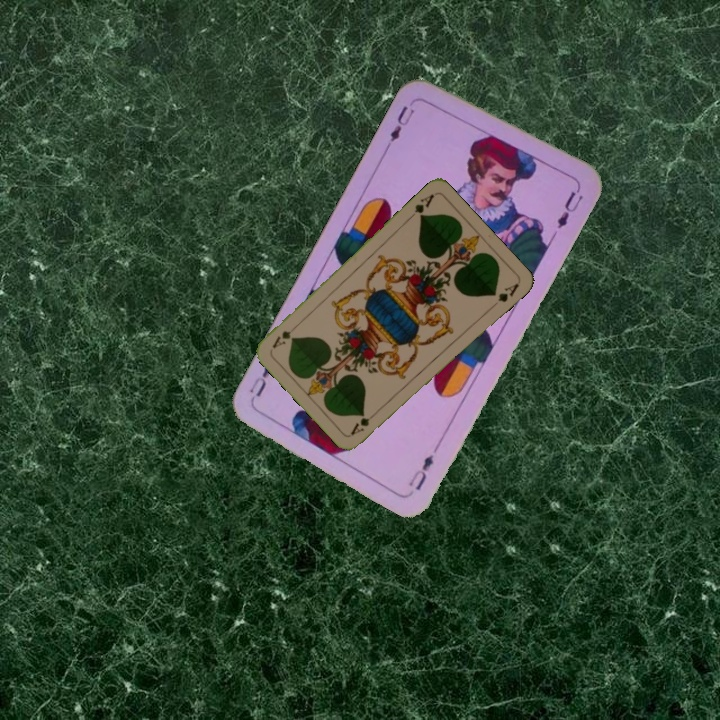EU: (385, 101, 417, 145), (405, 450, 436, 494)
GA: (404, 190, 437, 222), (346, 413, 372, 438)
